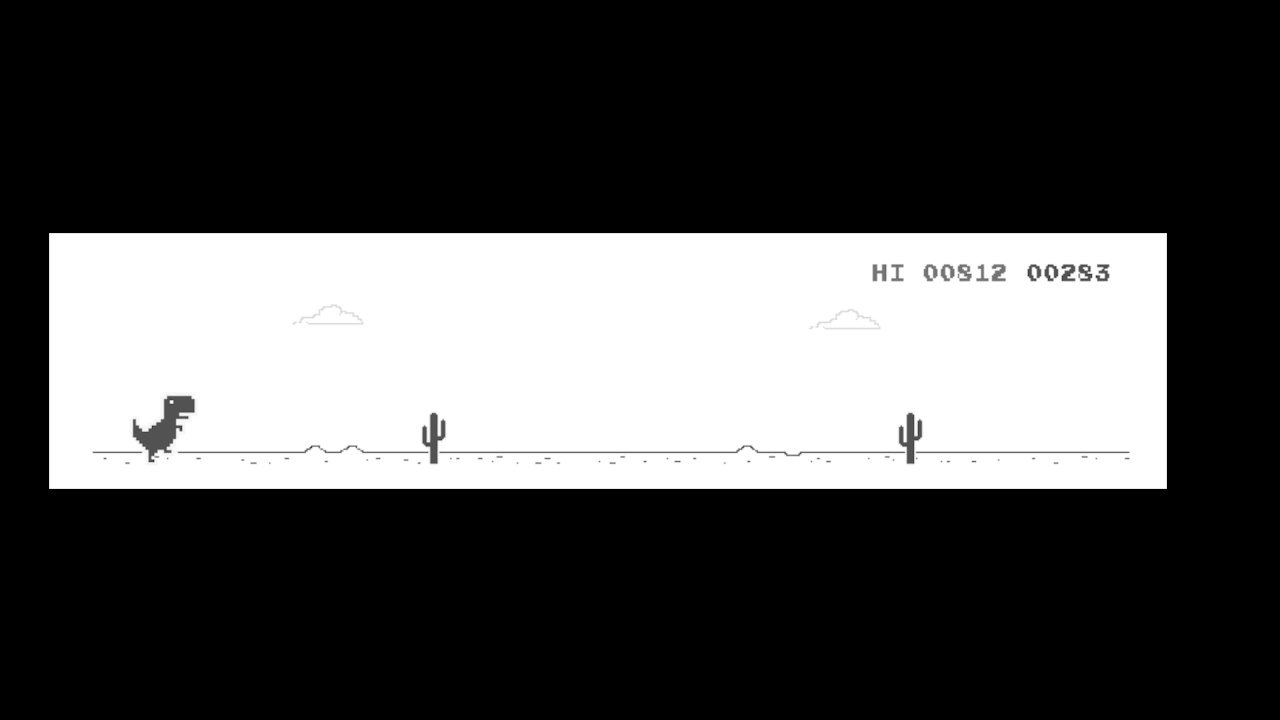dino: (130, 391, 197, 464)
small1: (416, 410, 450, 470), (896, 408, 923, 463)
